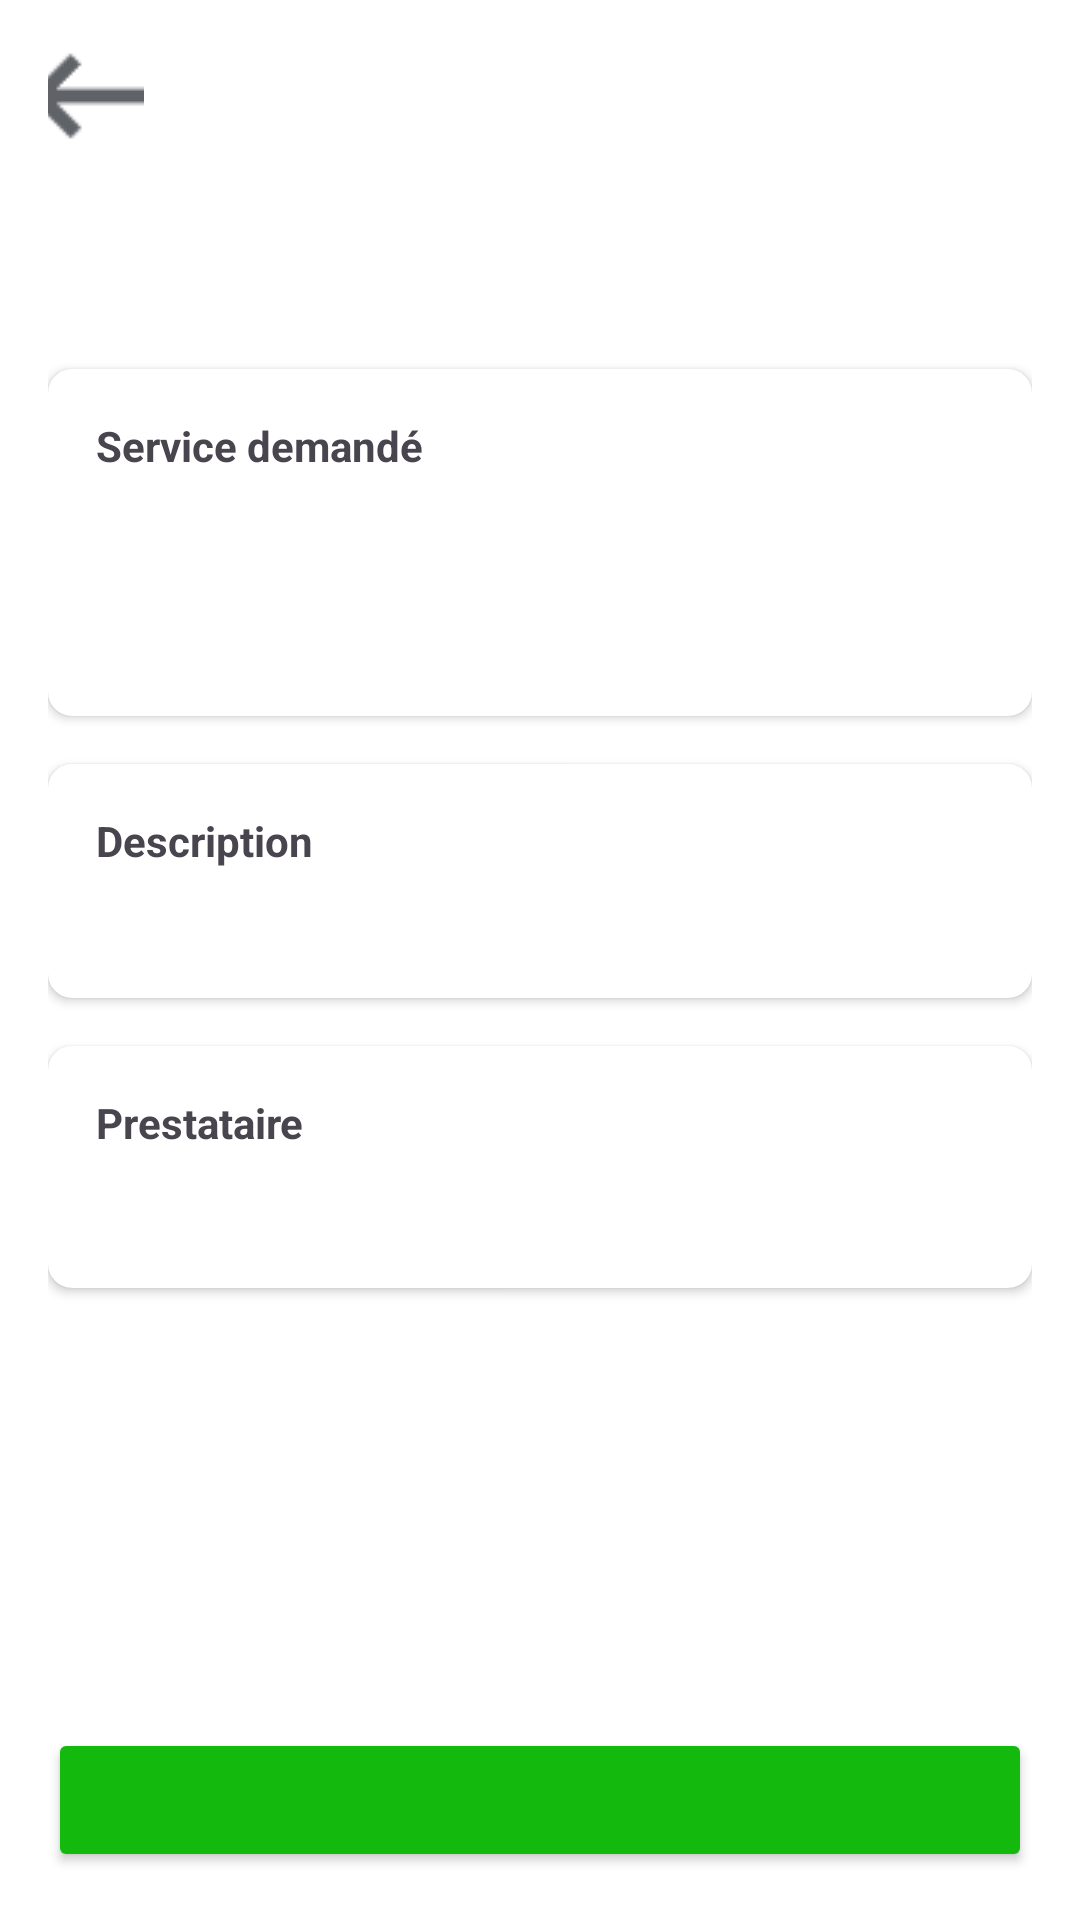

Icons on this 1080w x 1920h Android screen, each with its box as {"x1": x1, "y1": y1, "x2": x2, "y2": y2}:
Retour: {"x1": 48, "y1": 53, "x2": 144, "y2": 139}
